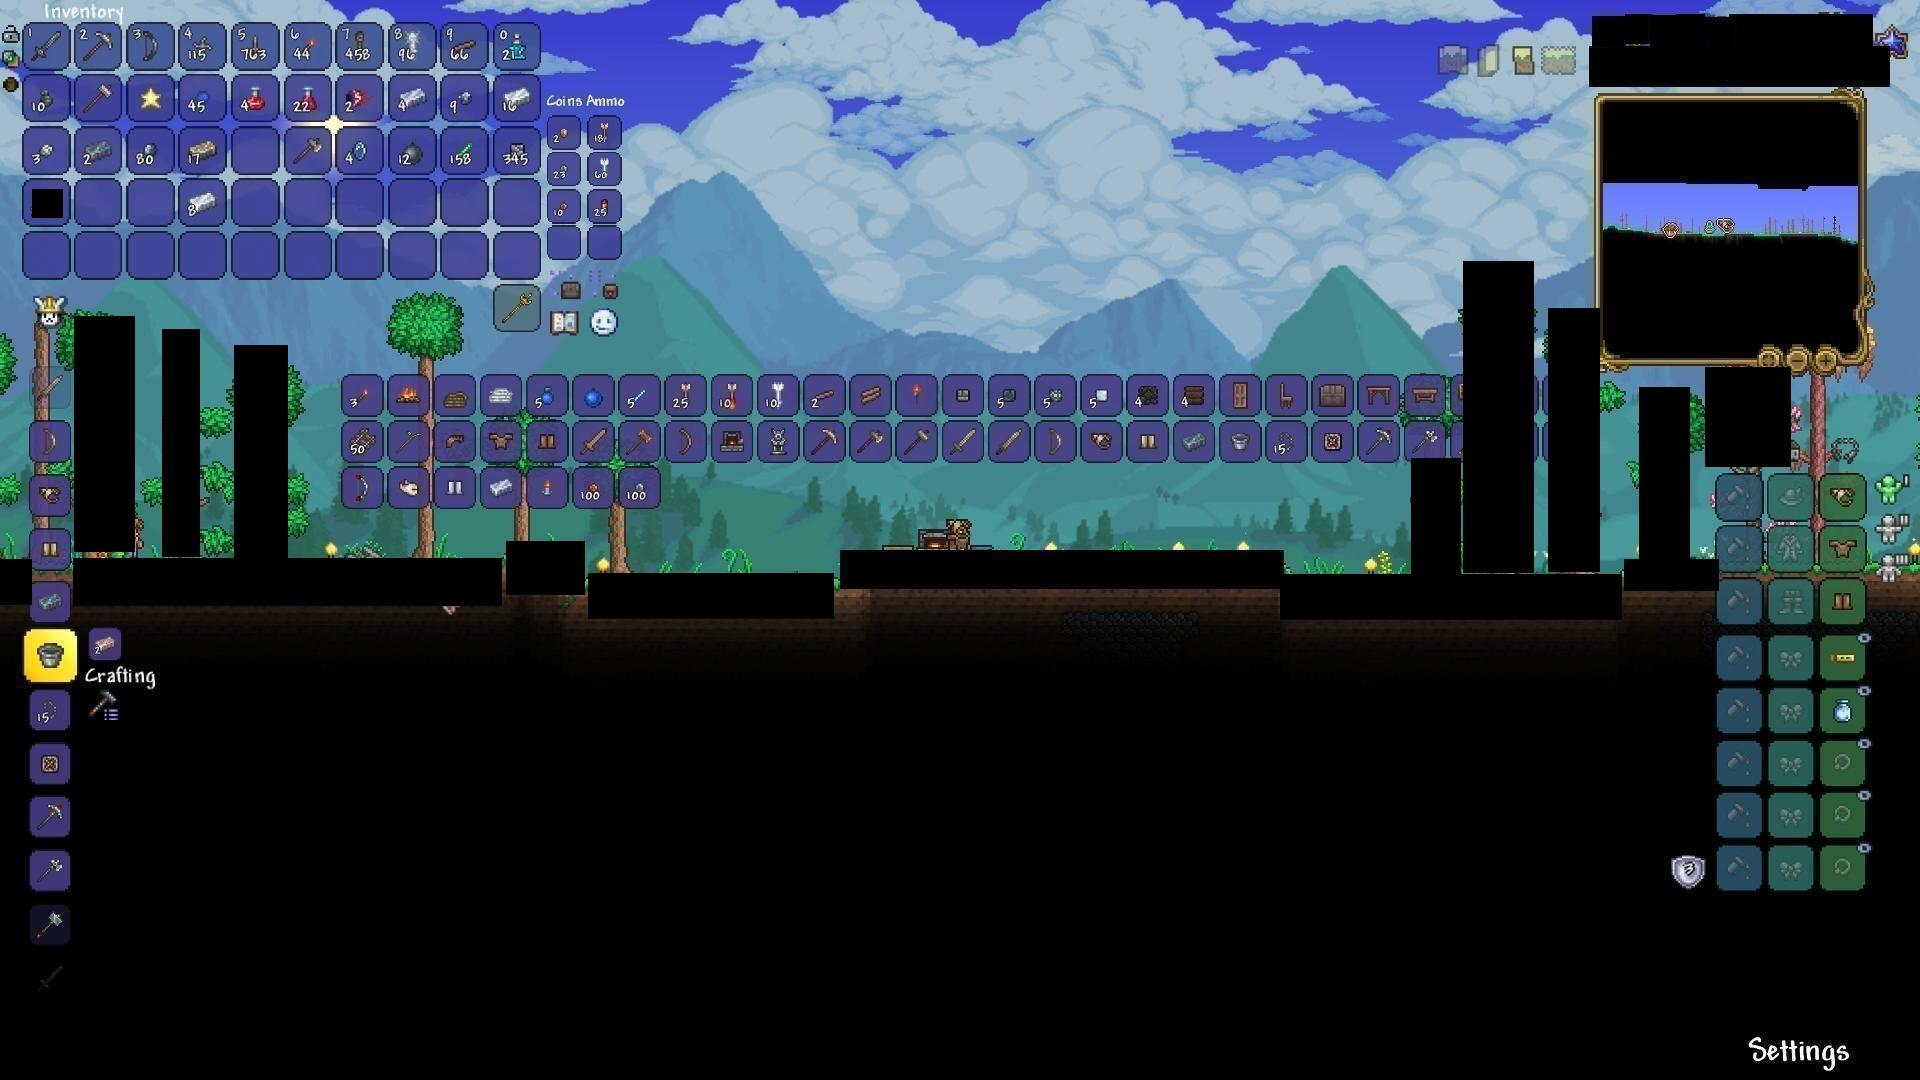breastplate: (1832, 538, 1859, 558), (488, 430, 516, 450)
helmet: (443, 429, 467, 455)
legs: (1138, 426, 1162, 456), (535, 430, 563, 455), (440, 473, 468, 498), (37, 538, 65, 563), (1830, 589, 1857, 615)
wood: (856, 378, 885, 406)
workbench: (1412, 384, 1439, 406)
